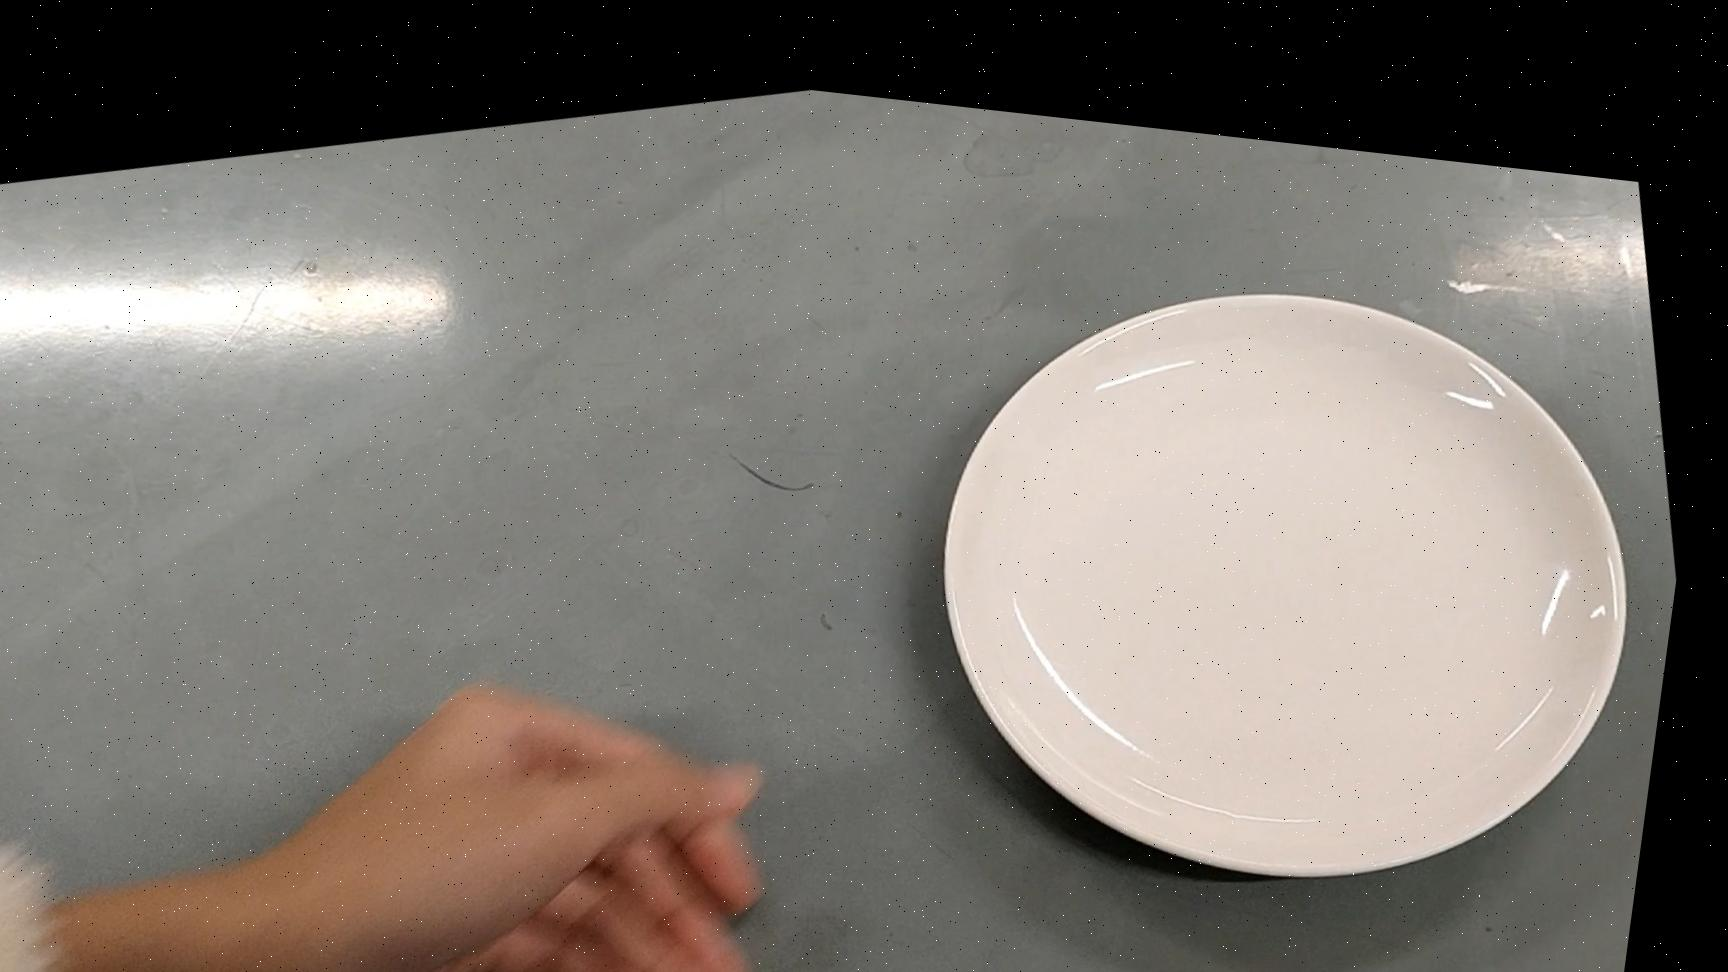plate: (859, 153, 1721, 952)
